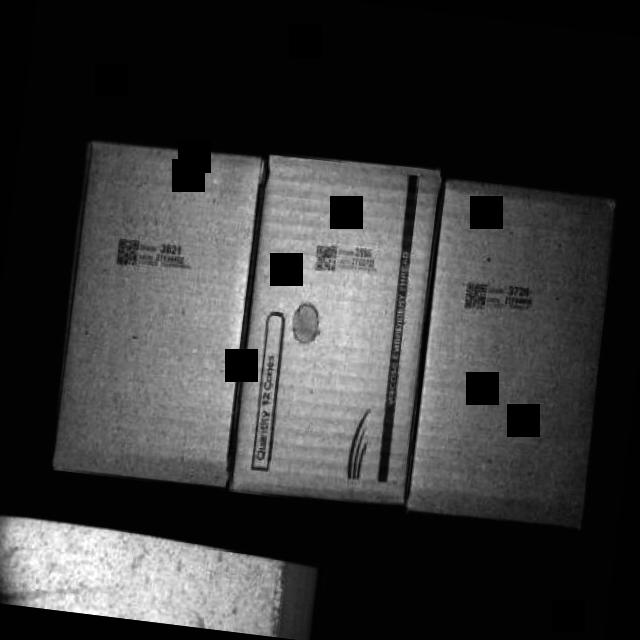box: (53, 134, 270, 489), (231, 152, 446, 502), (406, 175, 619, 520)
